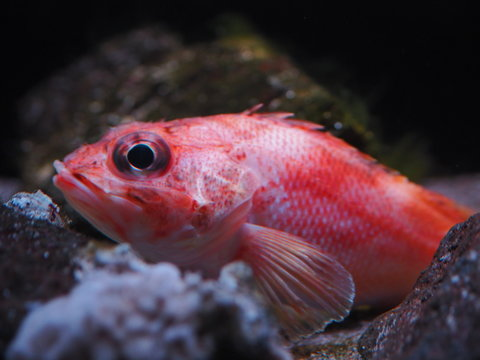Rock Fish: (42, 86, 480, 353)
